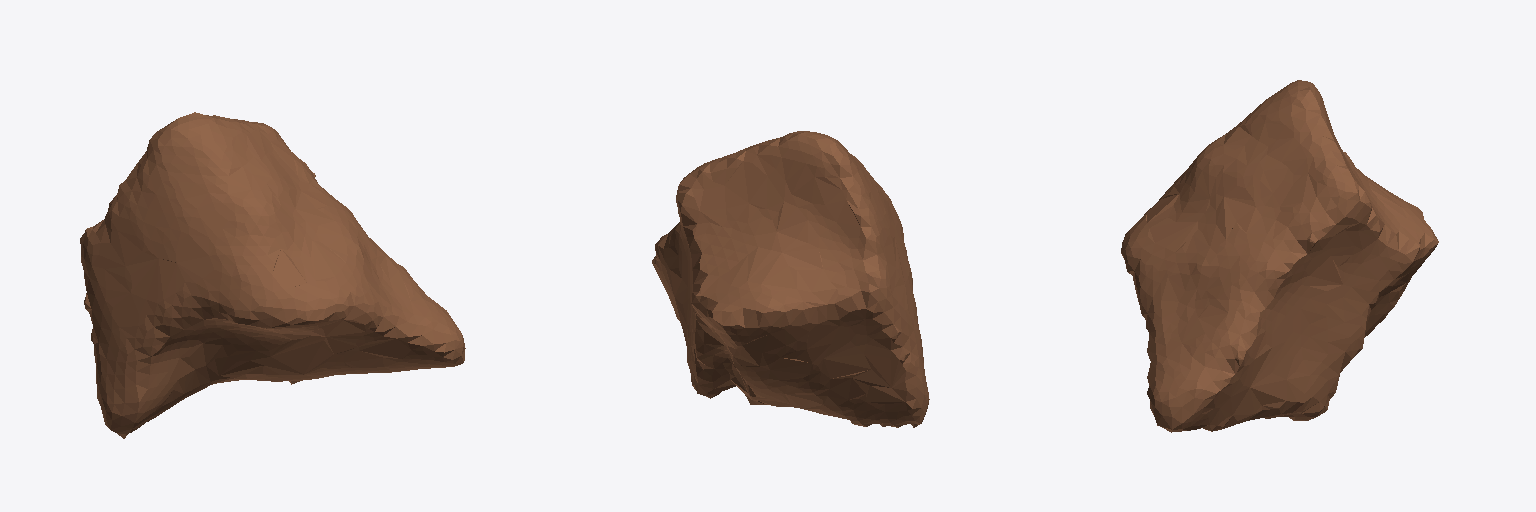
Rendered from Model_10082_LH__Auditory_cortex__rostral_area_(AuR).obj.
The picture shows the model from 3 angles: view 1: azimuth 30°, elevation 25°; view 2: azimuth 150°, elevation 25°; view 3: azimuth 270°, elevation 25°; orthographic projection.
Size of the model in its own units: 2.57 by 2.27 by 2.27.